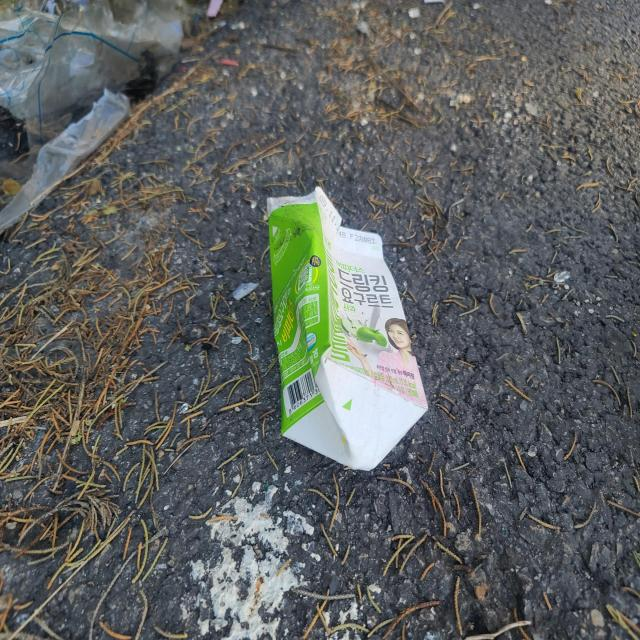paperpack: (267, 186, 428, 471)
